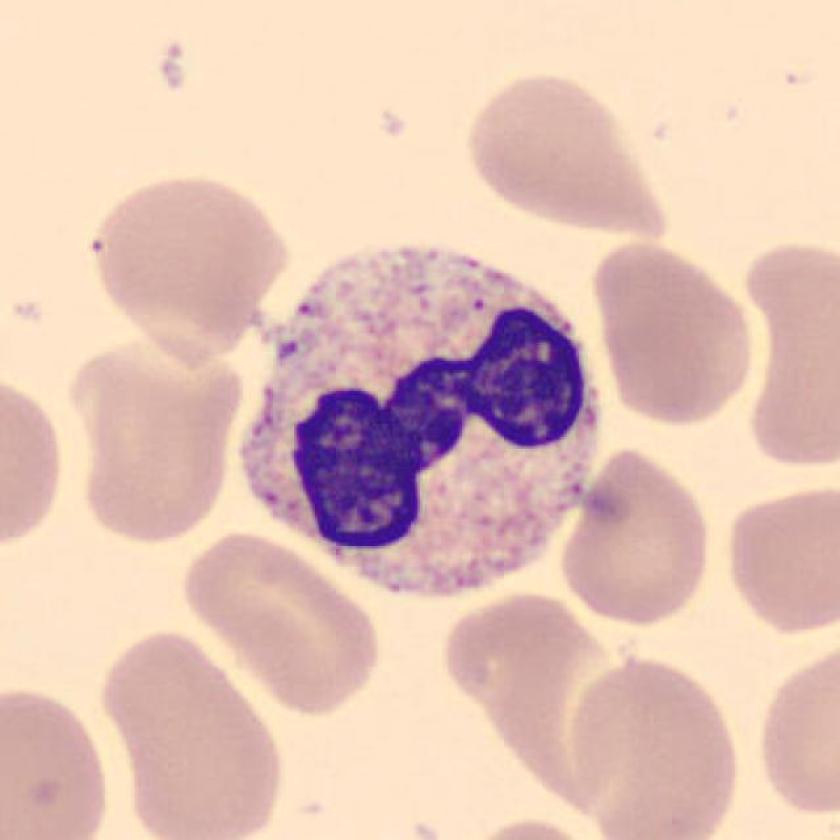neutrophil: (245, 244, 598, 593)
